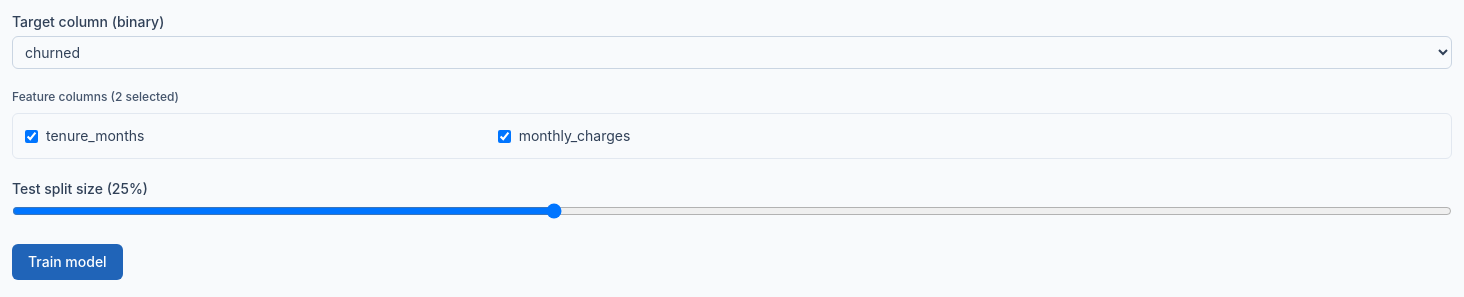
ClassificationConfigForm › disables submit when no feature columns are selected
This screenshot has width=1464, height=297.
Click the checkbox labelled "tenure_months" at (32, 136), box [25,130,38,142]
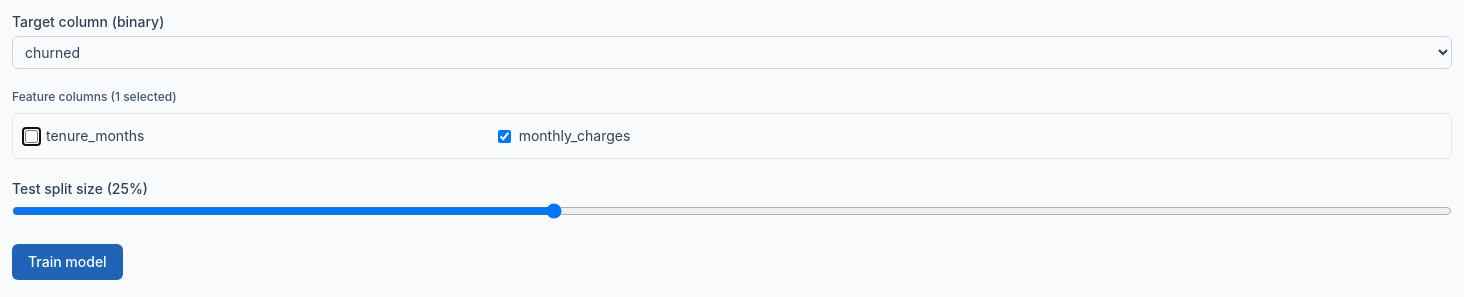
Click the checkbox labelled "monthly_charges" at (504, 136), box [498,130,511,142]
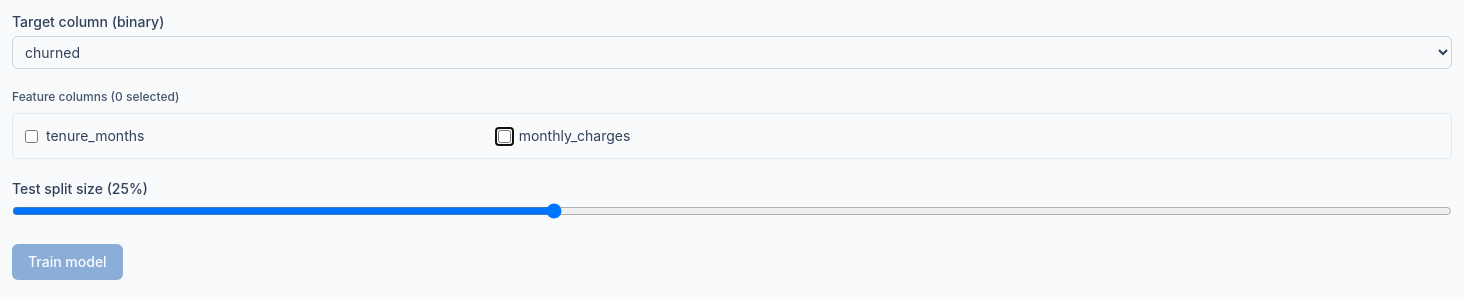
expect the button "Train model" is disabled: met, box [12,244,123,280]
